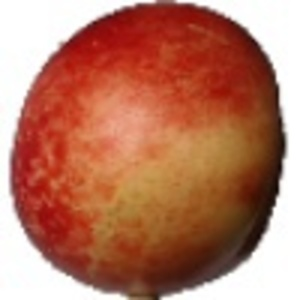nectarina: (8, 1, 288, 300)
